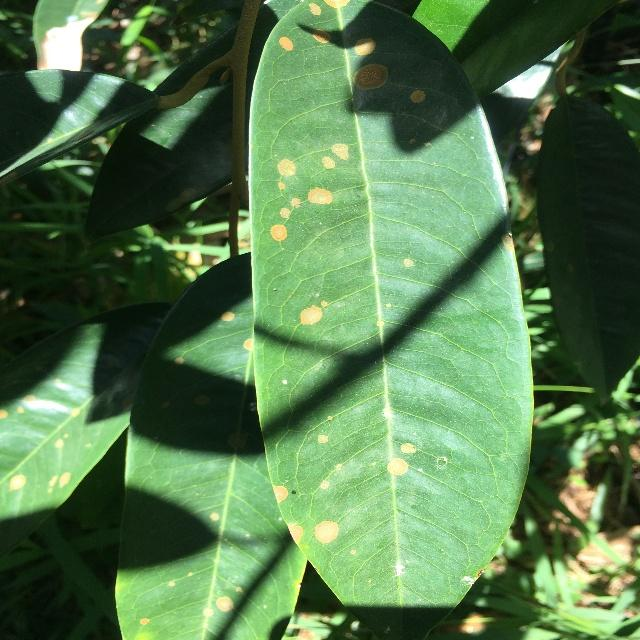Algal Leaf Spot: (239, 0, 542, 640)
